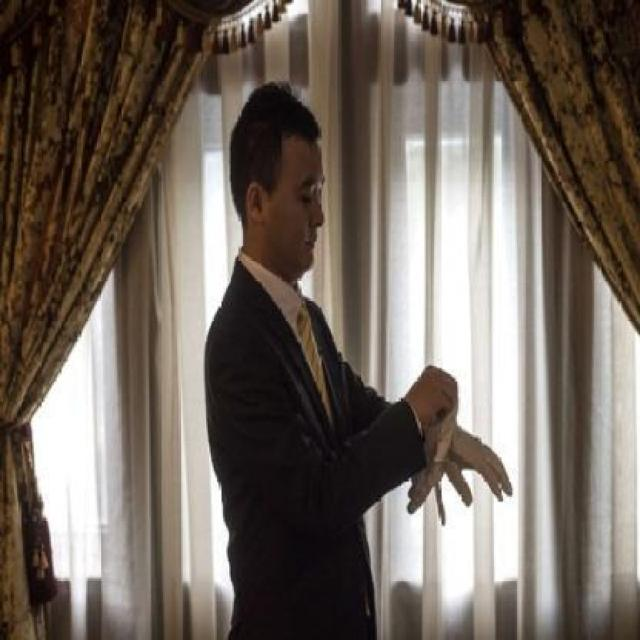face_nomask: (260, 146, 338, 279)
hand_noglove: (406, 360, 460, 425)
head_nohelmet: (223, 86, 335, 160)
person: (193, 80, 482, 640)
